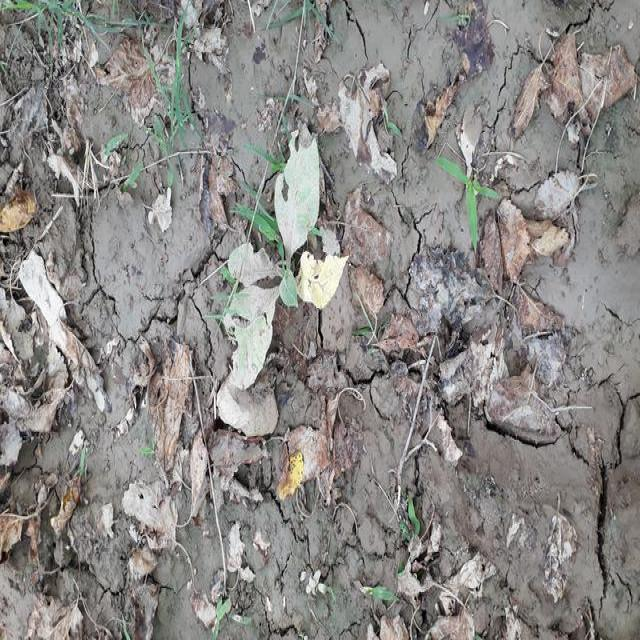crop: (218, 119, 351, 384)
